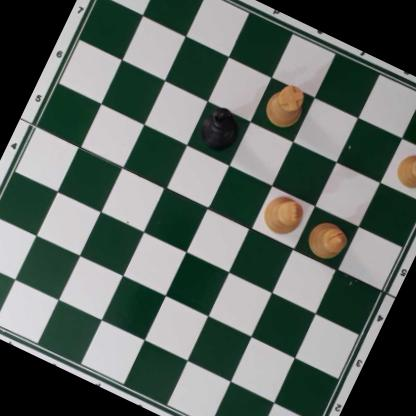black-king: (193, 100, 247, 157)
black-rook: (410, 86, 416, 152)
white-bishop: (302, 214, 354, 266)
white-king: (256, 187, 310, 242)
white-pawn: (391, 146, 416, 195)
white-rook: (258, 78, 312, 134)
